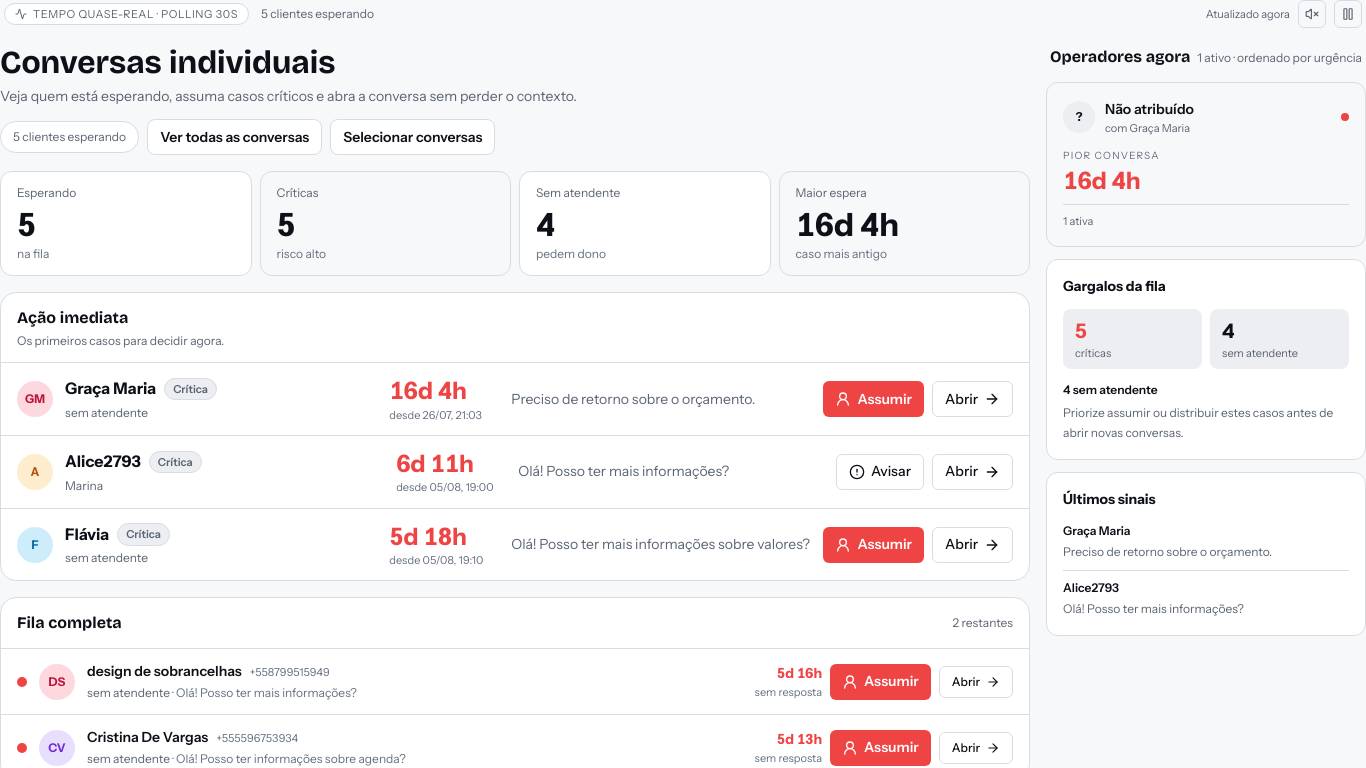
Scenario: OperacaoLivePanel › opens a modal with all visible individual conversations and keeps direct access to the complete inbox
expect the heading "Conversas individuais" is shown: met, box [0, 43, 335, 82]
Click the button "Ver todas as conversas" at [235, 137], box [147, 119, 322, 155]
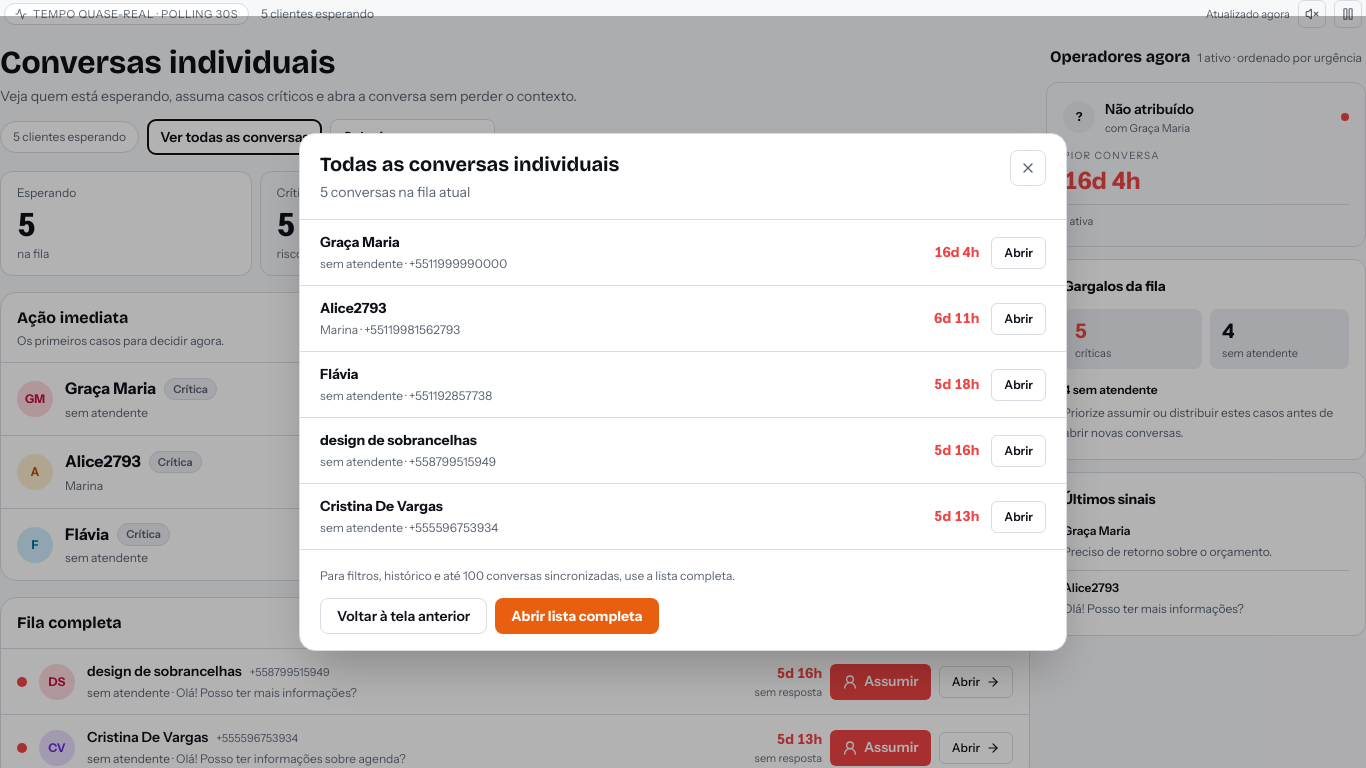
expect the dialog "Todas as conversas individuais" is shown: met, box [299, 133, 1067, 651]
expect the text "5 conversas na fila atual" is shown: met, box [320, 183, 470, 201]
expect the text "Graça Maria" is shown: met, box [320, 233, 400, 251]
Click the button "Voltar à tela anterior" at [404, 616], box [320, 598, 487, 634]
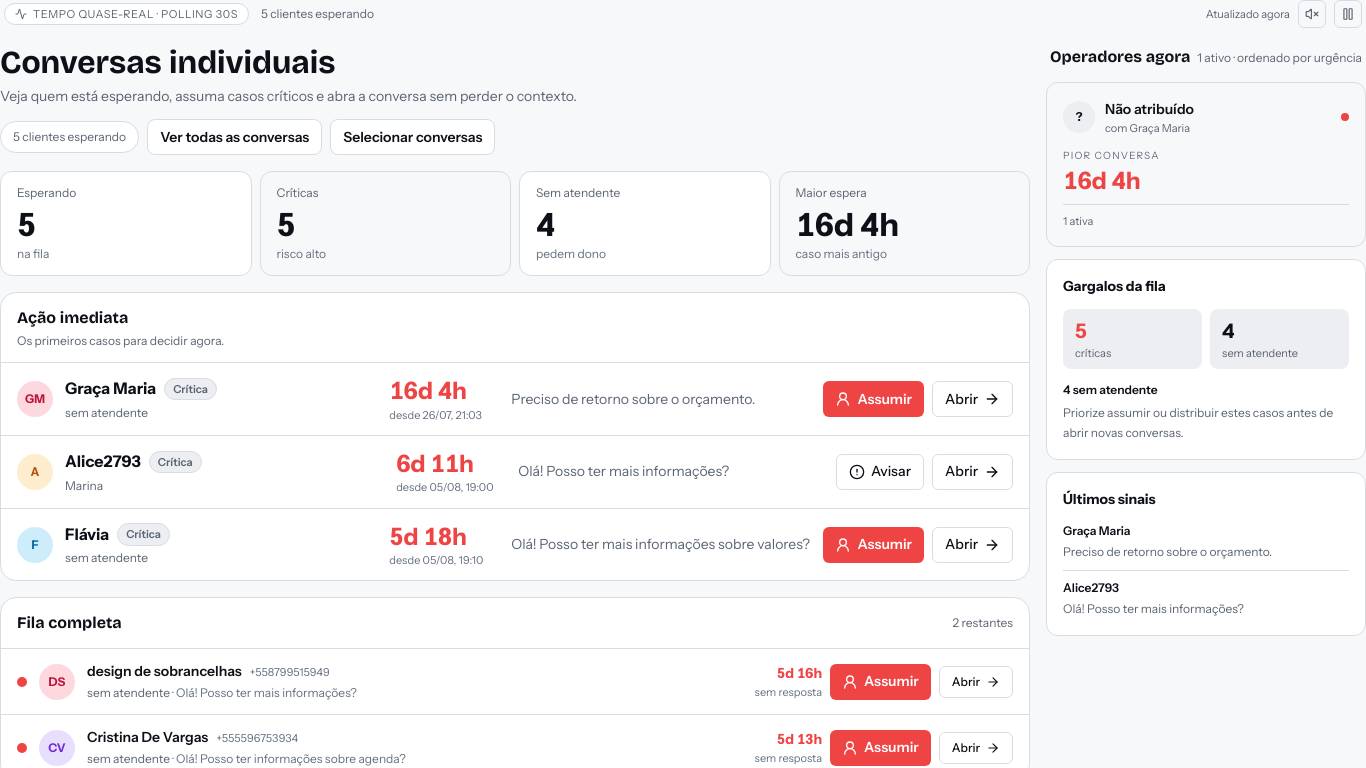
expect the heading "Todas as conversas individuais" is gone: met
